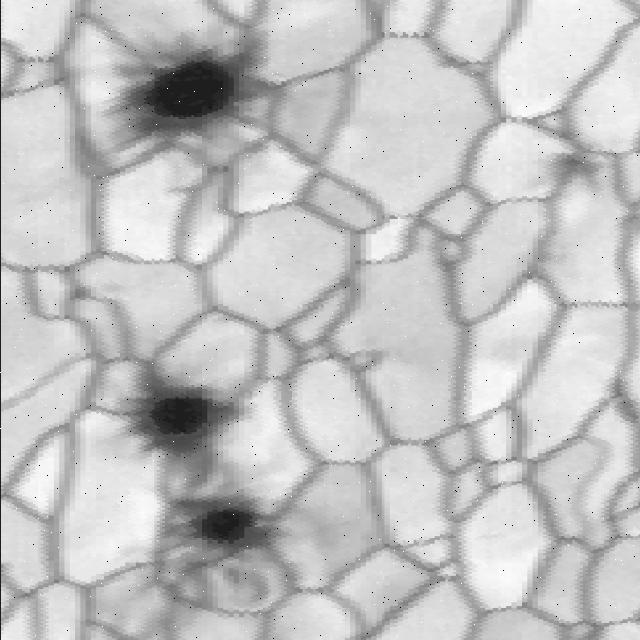good_void: (89, 22, 297, 203), (95, 352, 264, 491), (148, 488, 290, 609), (530, 134, 610, 214), (58, 270, 108, 309)
